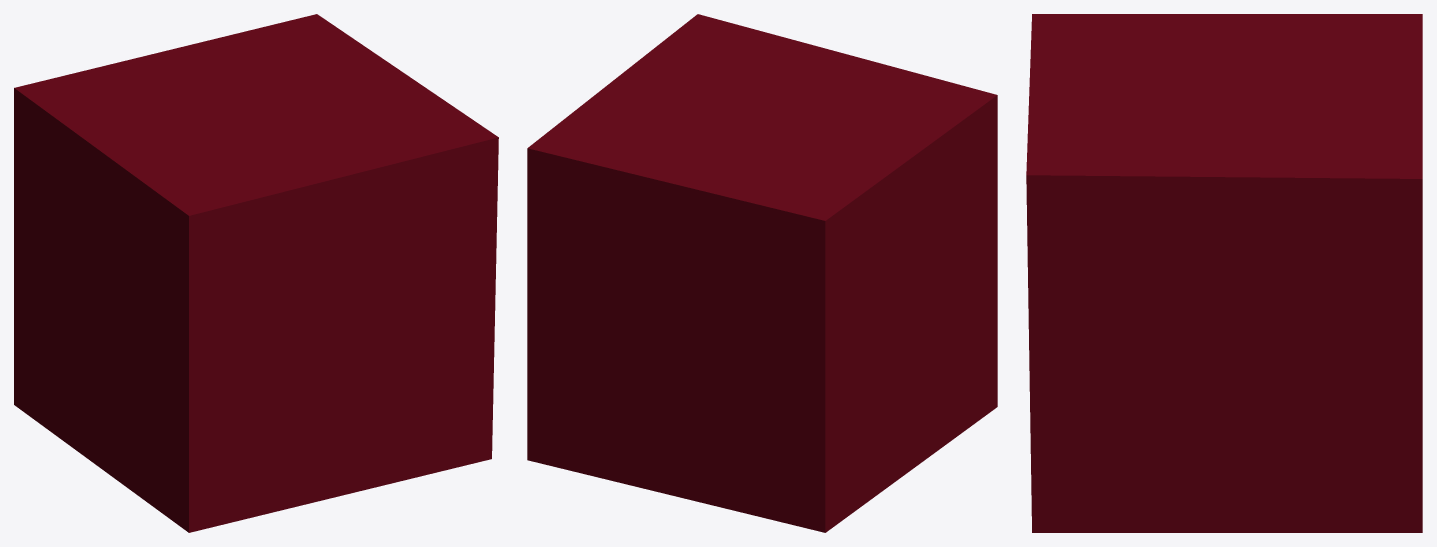
File: punto.glb
3 views of the same model, side by side, from view 1: azimuth 30°, elevation 25°; view 2: azimuth 150°, elevation 25°; view 3: azimuth 270°, elevation 25° (orthographic). The views are drawn at different scales.
Visible parts, largest first — view 1: Cube; view 2: Cube; view 3: Cube.
Boxes of the visible parts, <box> form: Cube: <box>14,14,498,532</box>; Cube: <box>527,14,997,532</box>; Cube: <box>1026,14,1422,532</box>.
Size of the model in its own units: 2.03 by 2.03 by 2.03.
